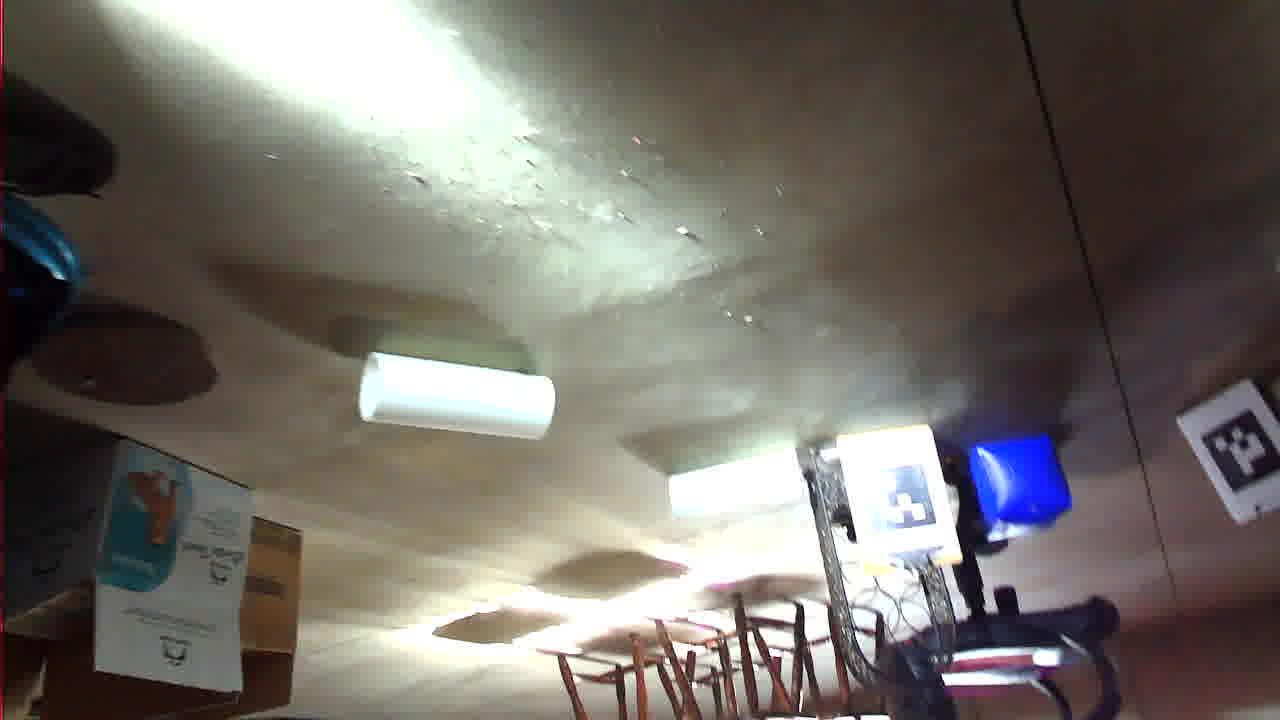coral: (724, 279, 921, 368)
